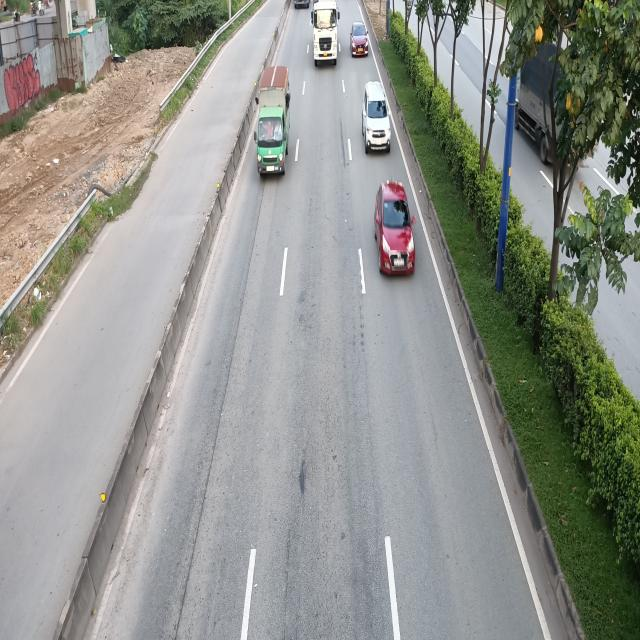car: (374, 180, 414, 276), (361, 84, 391, 155), (349, 20, 368, 56)
truck: (254, 64, 291, 177), (311, 1, 340, 66)
